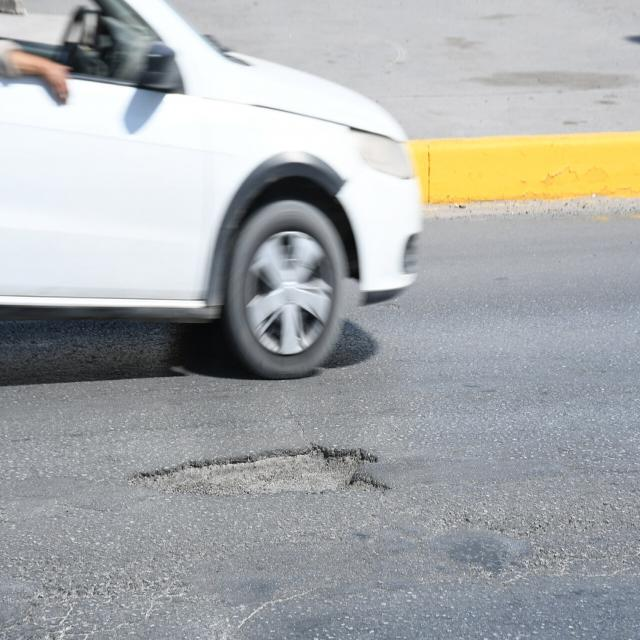Pothole: (91, 416, 423, 559)
